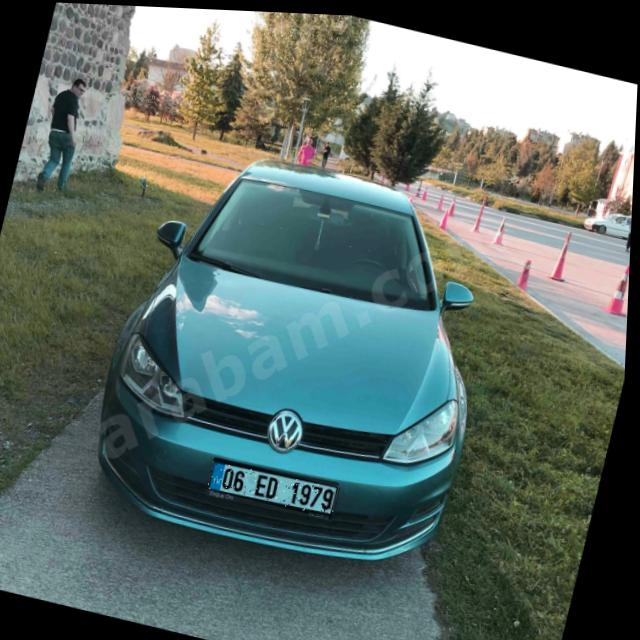license_plate: (210, 455, 344, 517)
